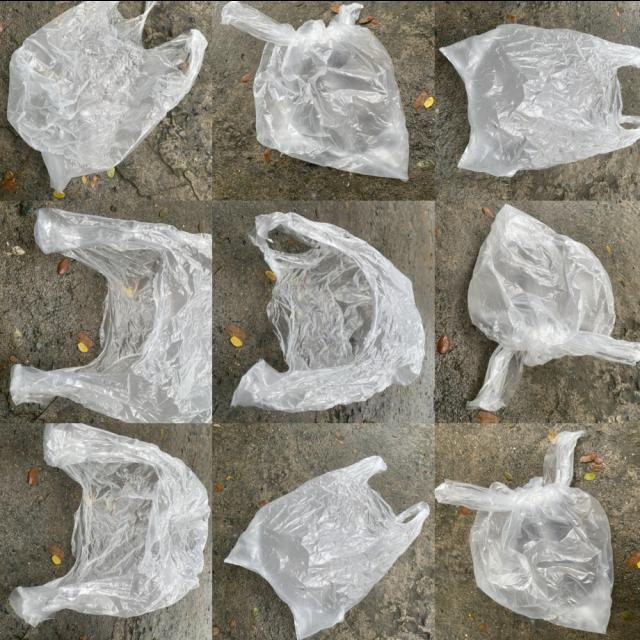plastik: (10, 207, 211, 422), (10, 423, 210, 625), (233, 212, 425, 411), (8, 0, 207, 191), (225, 456, 429, 638), (435, 430, 614, 631), (468, 204, 640, 409), (222, 0, 408, 179), (440, 23, 640, 175)
